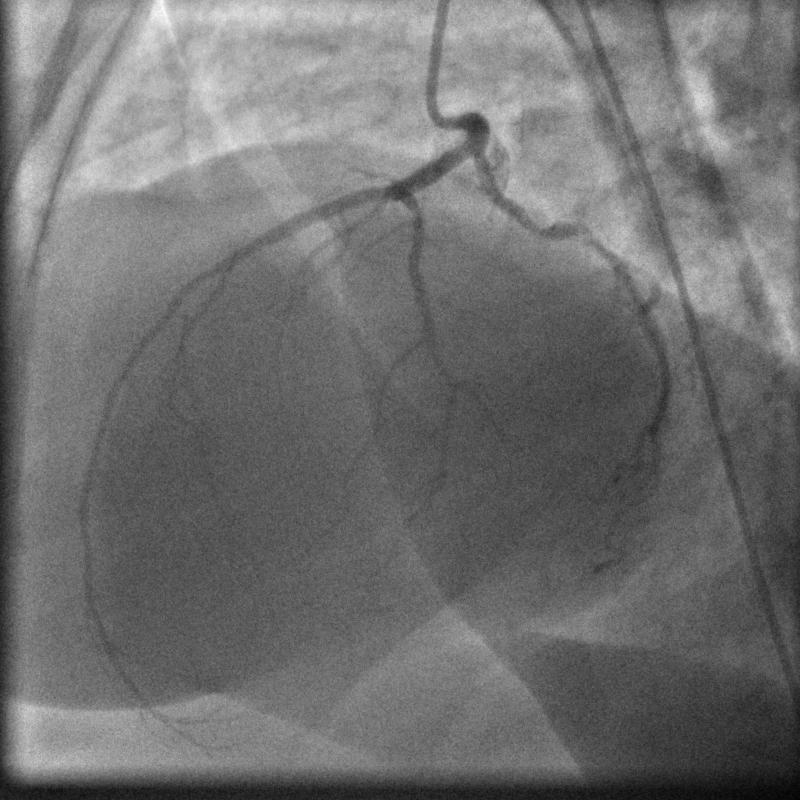Stenosis: (515, 198, 559, 248)
